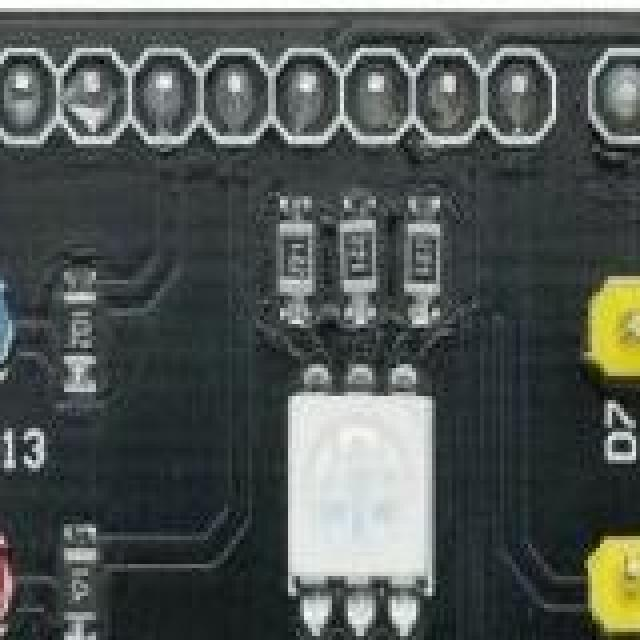LED: (276, 380, 434, 628), (0, 524, 16, 640), (0, 240, 8, 404)
connector: (596, 260, 640, 380), (592, 528, 640, 628)
resistor: (396, 196, 446, 326), (336, 196, 378, 328), (264, 212, 318, 314), (60, 256, 98, 392), (60, 532, 104, 640)
